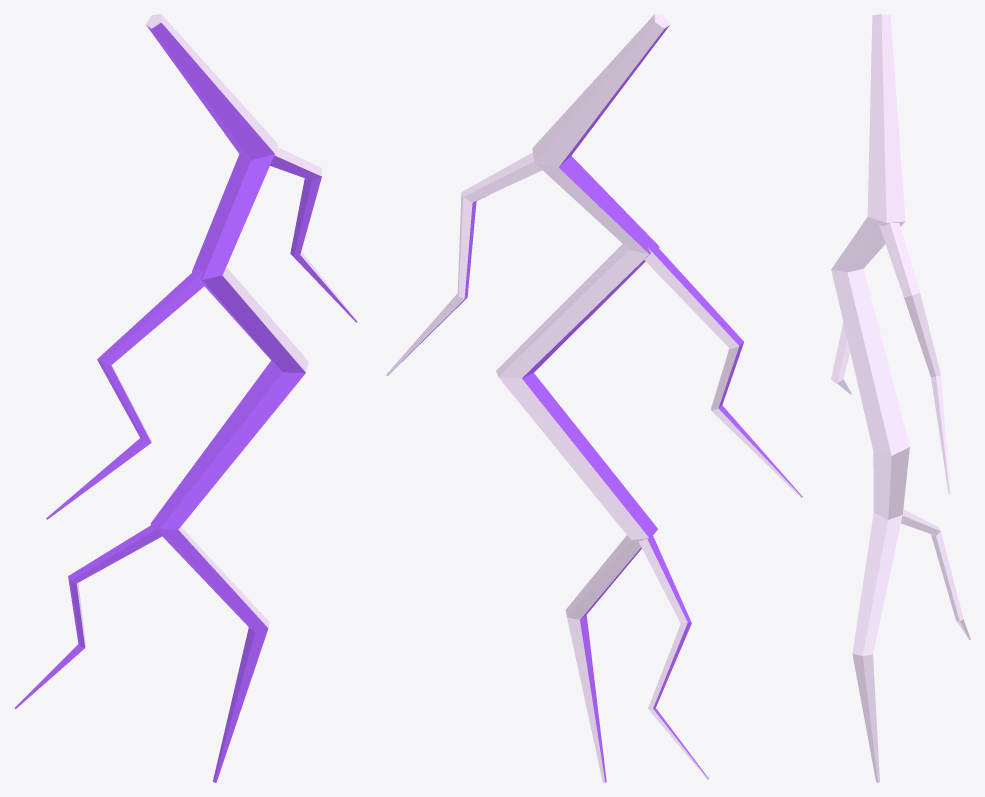
The model's file is lightningStrike.gltf.
3 renders of one model, left to right at view 1: azimuth 30°, elevation 25°; view 2: azimuth 150°, elevation 25°; view 3: azimuth 270°, elevation 25°, orthographic. The views are drawn at different scales.
Parts seen in each view (by area): view 1: LightningStrike; view 2: LightningStrike; view 3: LightningStrike.
Boxes of the visible parts, box(x1,y1,x2,y2) form: LightningStrike: box(14, 14, 357, 782); LightningStrike: box(386, 14, 802, 782); LightningStrike: box(831, 14, 970, 782).
Size of the model in its own units: 1.17 by 2.41 by 0.4109.
1 material, 1 textured.
